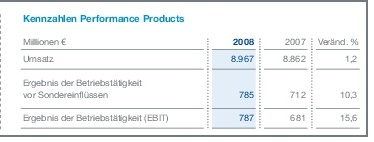table: (0, 0, 374, 142)
